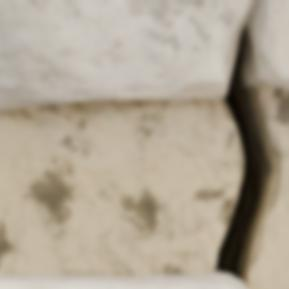brick: (0, 274, 244, 288)
broken_brick: (0, 0, 245, 110), (263, 0, 288, 90)
crack: (208, 0, 288, 288)
